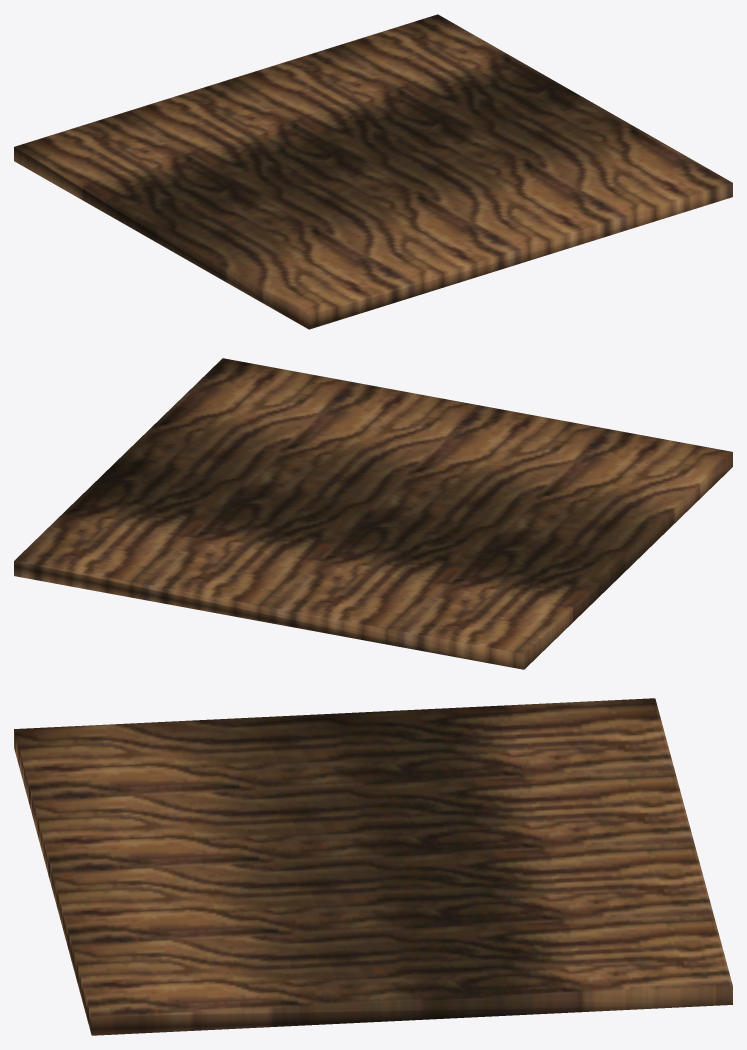
The model's file is SWORDLIGHT20_MAINCAVPLAT01CONV03.fbx.
3 views of the same model, one above another, from view 1: azimuth 30°, elevation 25°; view 2: azimuth 150°, elevation 25°; view 3: azimuth 270°, elevation 25° (orthographic). The views are drawn at different scales.
Parts seen in each view (by area): view 1: SWORDLIGHT20_MAINCAVPLAT01CONV03; view 2: SWORDLIGHT20_MAINCAVPLAT01CONV03; view 3: SWORDLIGHT20_MAINCAVPLAT01CONV03.
Part boxes in pixels (x1,y1,x2,y2): SWORDLIGHT20_MAINCAVPLAT01CONV03: (14,14,732,329); SWORDLIGHT20_MAINCAVPLAT01CONV03: (14,358,732,669); SWORDLIGHT20_MAINCAVPLAT01CONV03: (14,698,732,1035).
Bounding box in the file's own units: 92207 × 2500 × 87831.
Materials: 1 (1 with a texture image).
